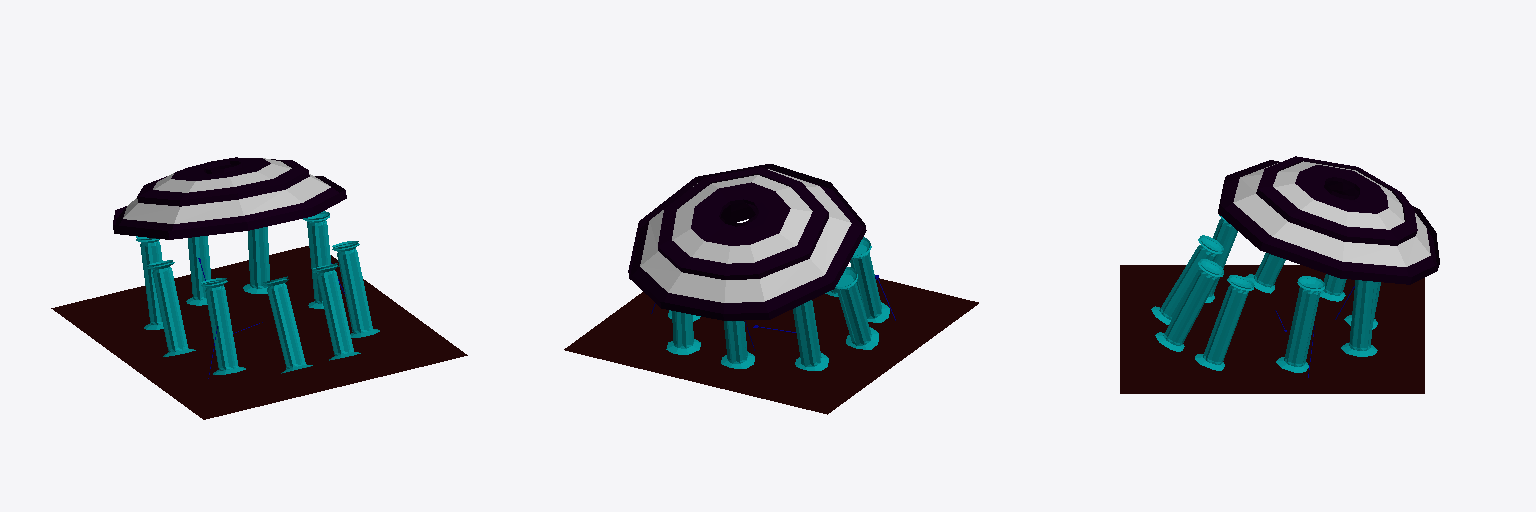
Rendered from SpearYard1d.obj.
3 renders of one model, left to right at view 1: azimuth 30°, elevation 25°; view 2: azimuth 150°, elevation 25°; view 3: azimuth 270°, elevation 25°, orthographic.
Parts seen in each view (by area): view 1: Plane, Plane.012_Plane.013, Plane.005_Plane.016, Plane.001_Plane.012, Plane.002, Plane.004_Plane.015, Plane.003_Plane.014, Plane.006_Plane.017, Plane.007_Plane.018, Plane.009_Plane.020, Plane.008_Plane.019; view 2: Plane.012_Plane.013, Plane, Plane.002, Plane.001_Plane.012, Plane.009_Plane.020, Plane.008_Plane.019, Plane.007_Plane.018; view 3: Plane, Plane.012_Plane.013, Plane.006_Plane.017, Plane.004_Plane.015, Plane.005_Plane.016, Plane.007_Plane.018, Plane.003_Plane.014, Plane.002, Plane.001_Plane.012.
Part boxes in pixels (x1,y1,x2,y2): Plane: (51, 246, 467, 419); Plane.012_Plane.013: (113, 157, 346, 239); Plane.005_Plane.016: (332, 241, 379, 337); Plane.001_Plane.012: (201, 278, 245, 374); Plane.002: (147, 260, 195, 356); Plane.004_Plane.015: (312, 263, 360, 360); Plane.003_Plane.014: (262, 276, 312, 373); Plane.006_Plane.017: (303, 211, 330, 308); Plane.007_Plane.018: (243, 227, 269, 293); Plane.009_Plane.020: (136, 236, 163, 329); Plane.008_Plane.019: (186, 236, 210, 305); Plane.012_Plane.013: (628, 164, 866, 320); Plane: (564, 278, 978, 414); Plane.002: (835, 267, 878, 349); Plane.001_Plane.012: (850, 237, 889, 322); Plane.009_Plane.020: (793, 300, 828, 370); Plane.008_Plane.019: (721, 321, 754, 368); Plane.007_Plane.018: (666, 311, 700, 354); Plane: (1120, 265, 1424, 393); Plane.012_Plane.013: (1218, 156, 1439, 284); Plane.006_Plane.017: (1276, 276, 1324, 372); Plane.004_Plane.015: (1155, 259, 1223, 351); Plane.005_Plane.016: (1195, 275, 1254, 370); Plane.007_Plane.018: (1341, 280, 1377, 356); Plane.003_Plane.014: (1151, 235, 1223, 324); Plane.002: (1245, 253, 1285, 293); Plane.001_Plane.012: (1205, 215, 1237, 302).
Size of the model in its own units: 1.31 by 0.7268 by 1.37.